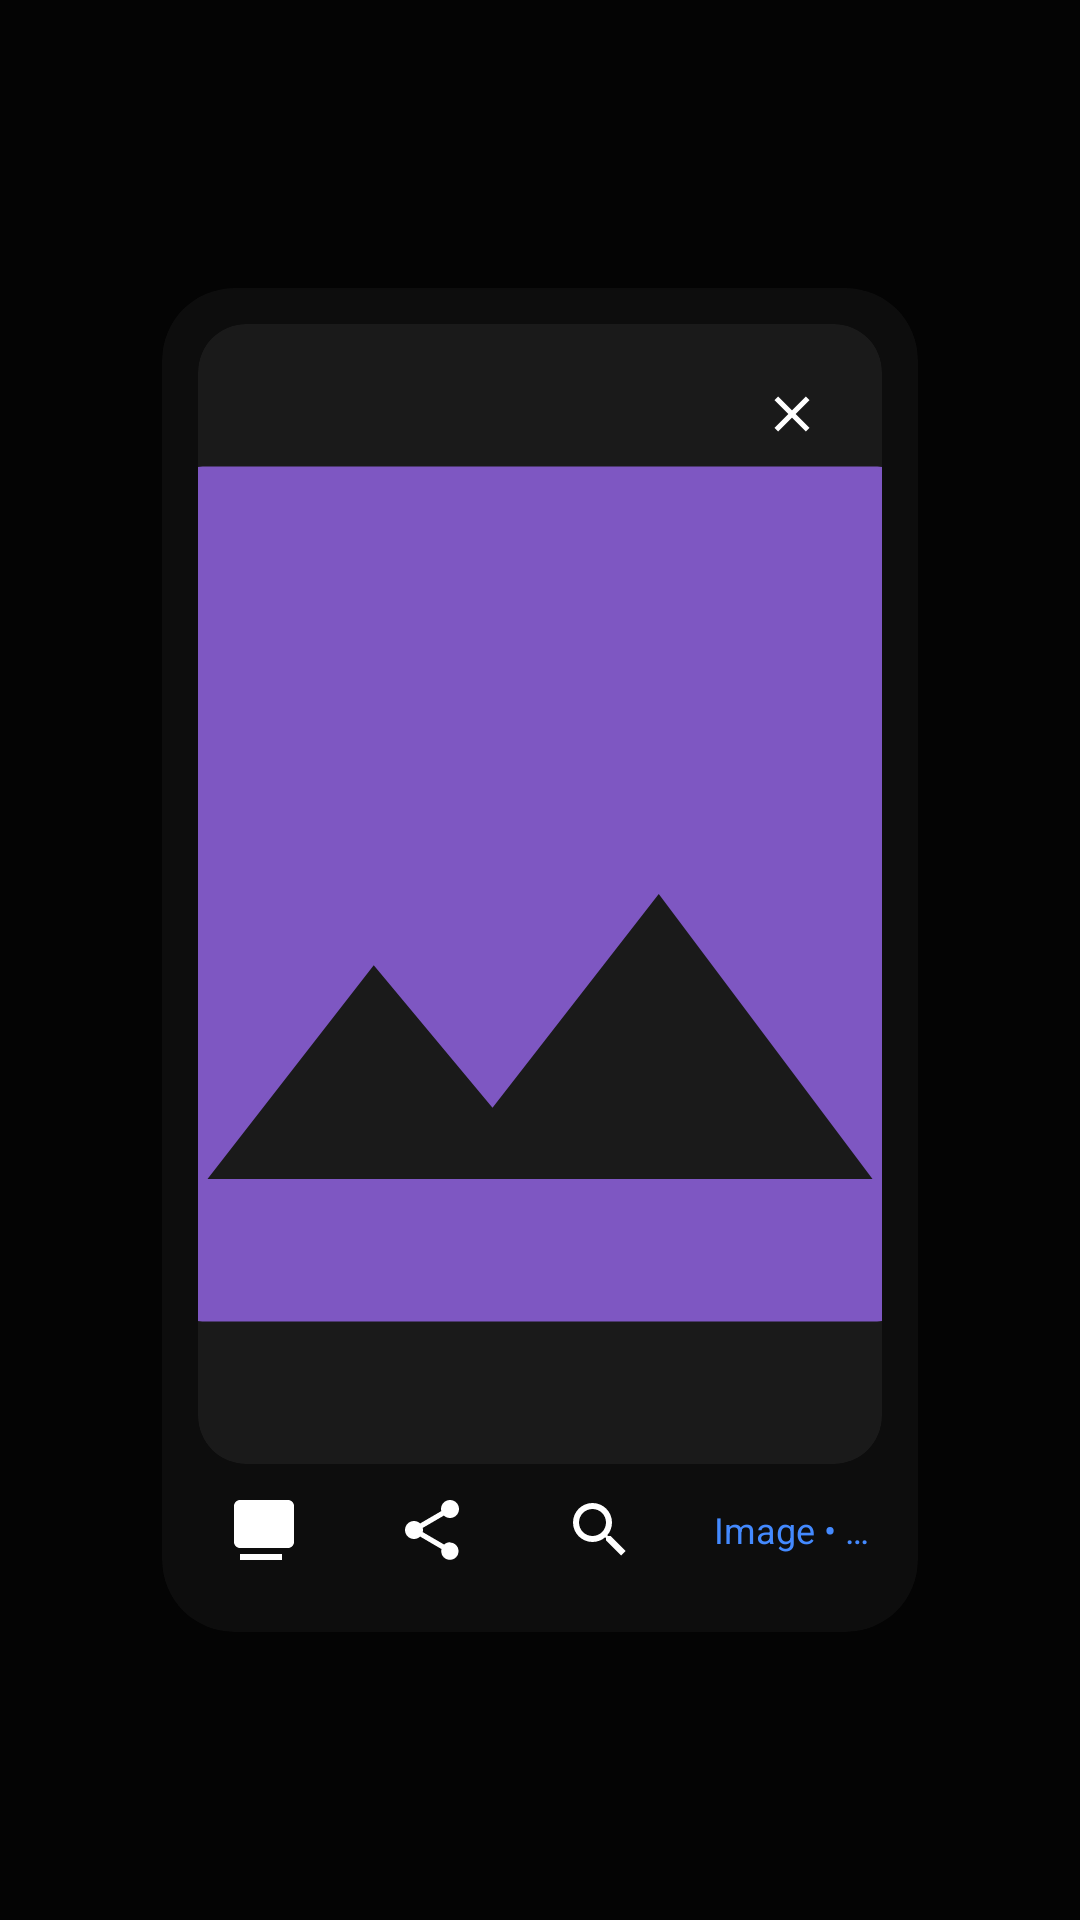

Named icons in this screenshot (1080 × 1920) and their centers, point (x, y):
Close: point (792, 414)
Search Similar: point (599, 1529)
Share Image: point (432, 1530)
